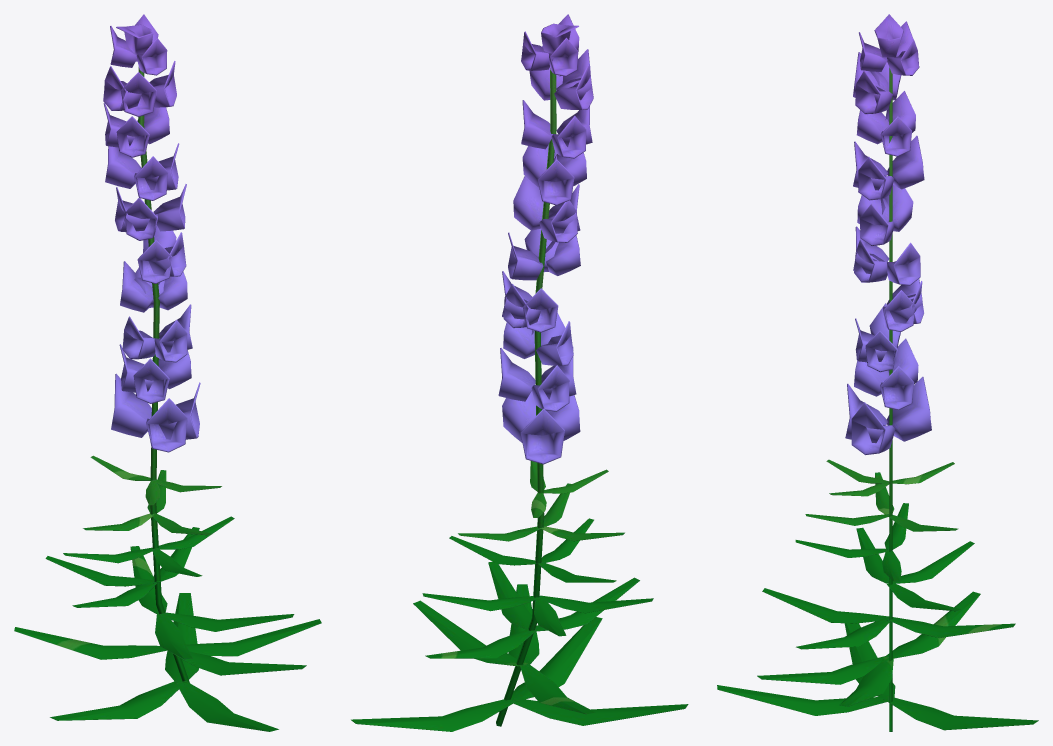
The picture shows the model from 3 angles, left to right: view 1: azimuth 30°, elevation 25°; view 2: azimuth 150°, elevation 25°; view 3: azimuth 270°, elevation 25°; orthographic projection. The views are drawn at different scales.
Parts seen in each view (by area): view 1: a2b8399f; view 2: a2b8399f; view 3: a2b8399f.
Part boxes in pixels (box(x1,y1,x2,y2)): a2b8399f: box(14, 14, 321, 731); a2b8399f: box(351, 14, 688, 731); a2b8399f: box(717, 14, 1038, 731).
Bounding box in the file's own units: 0.0889 × 0.2224 × 0.095.
Materials: 2 (2 with a texture image).
